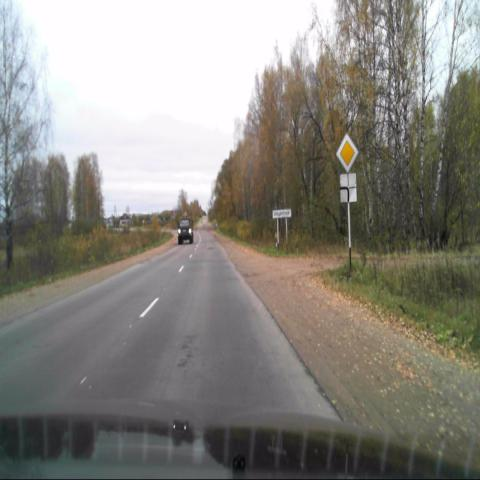8_13: (338, 173, 357, 204)
